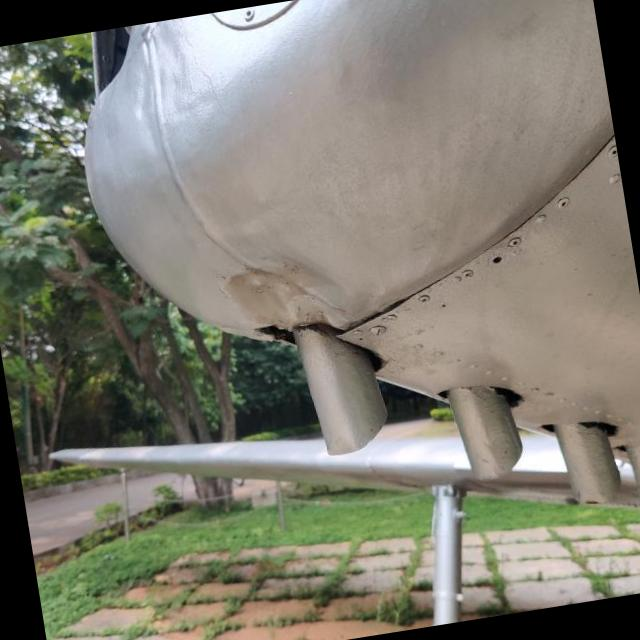Dent: (219, 266, 356, 332)
